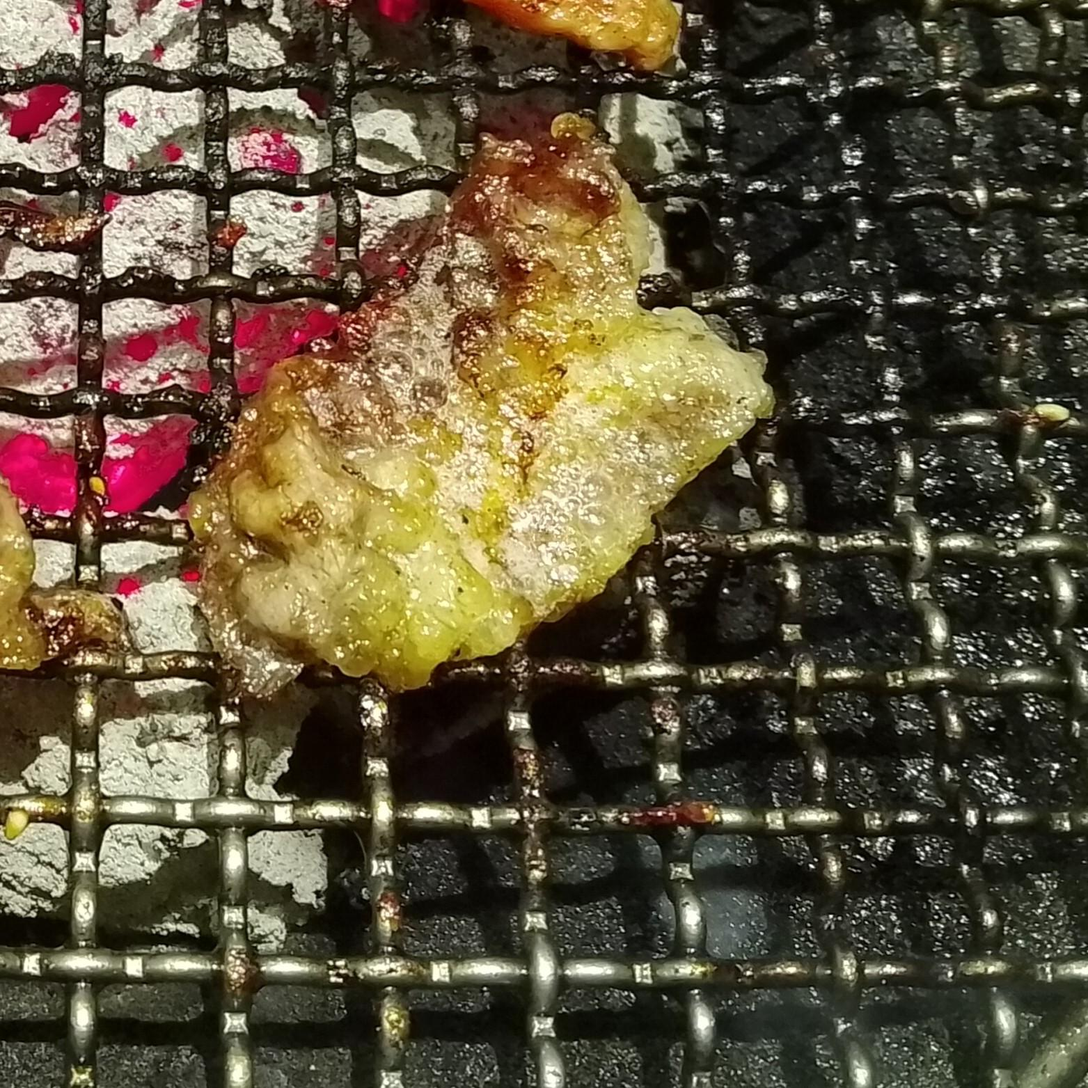Overcooked: (189, 107, 775, 697)
